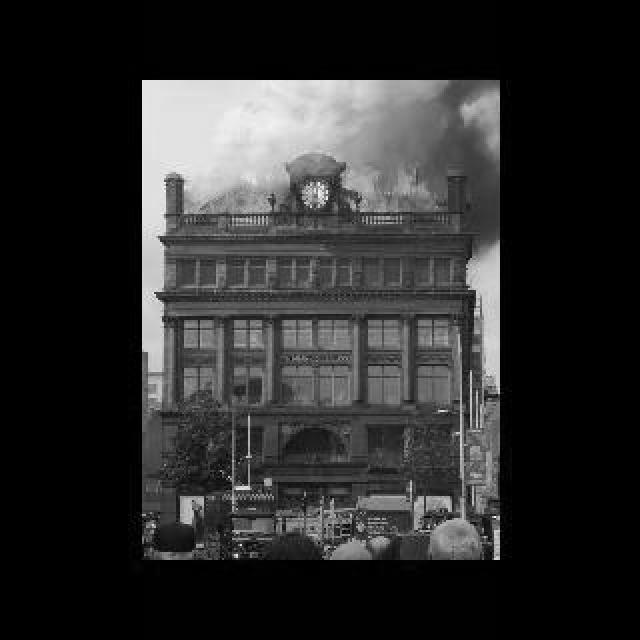Fire: (190, 146, 438, 228)
Smoke: (434, 80, 496, 262)
